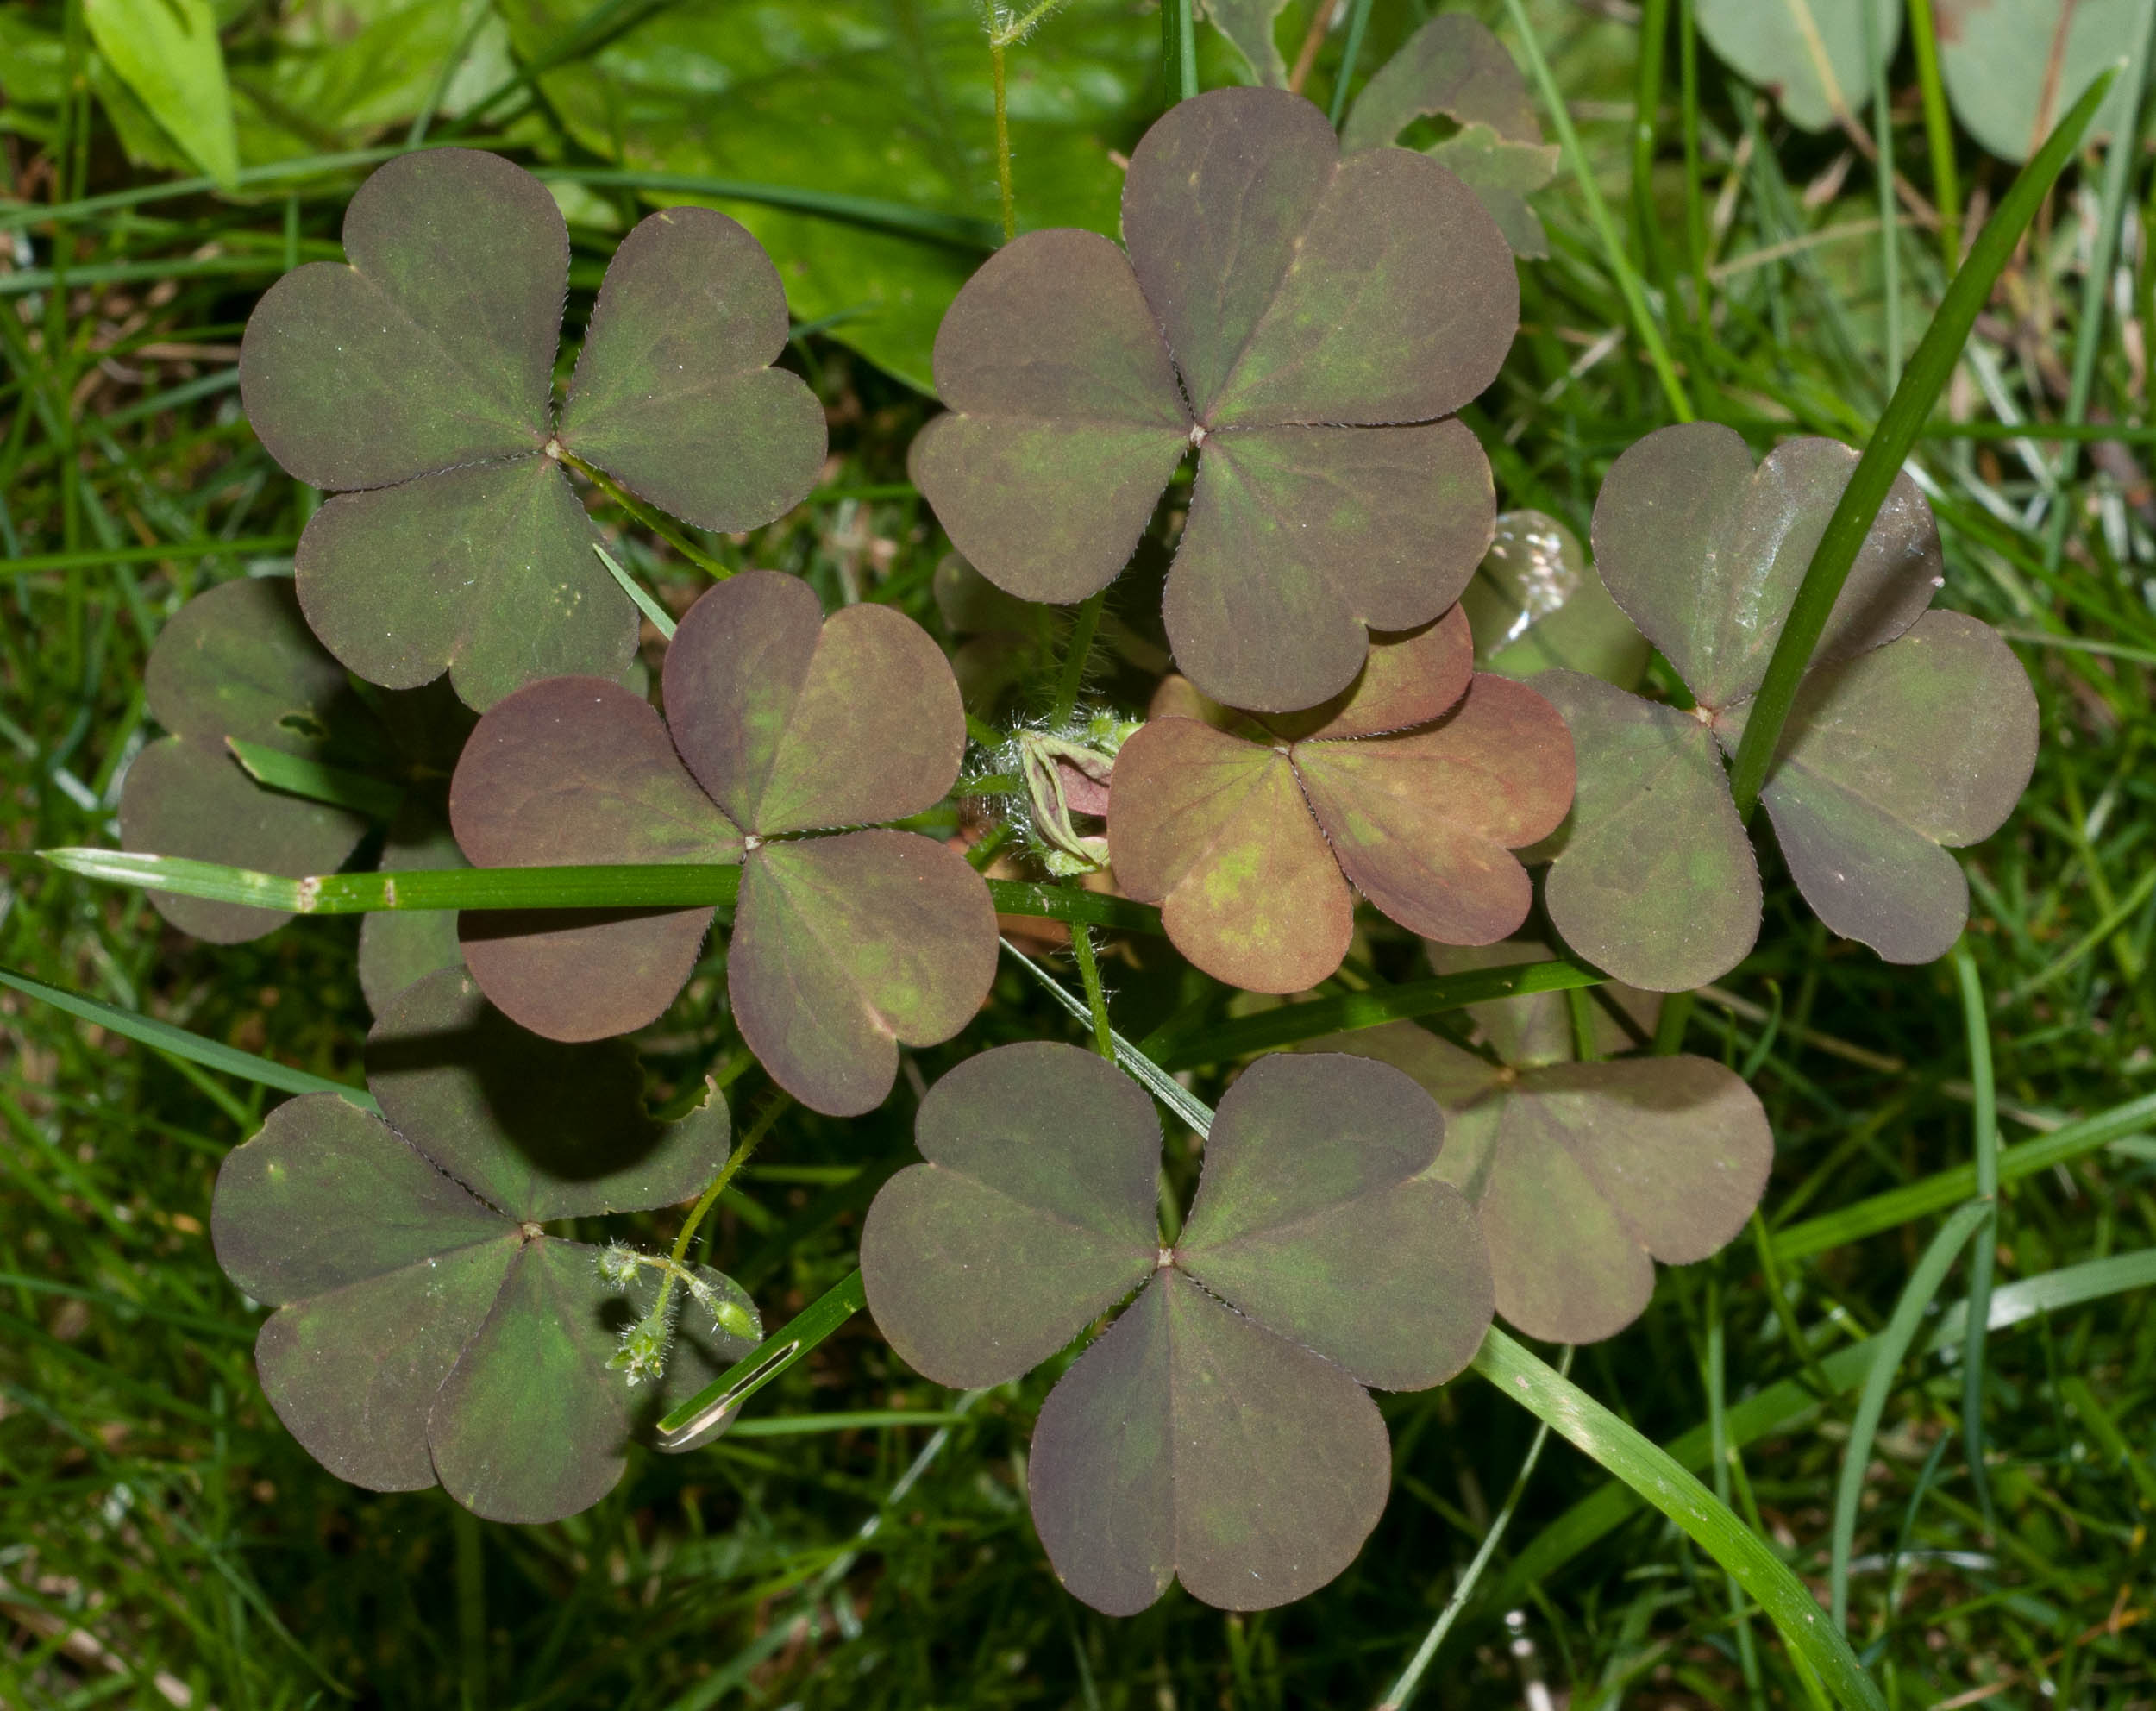oxalis: (198, 154, 1928, 1508)
